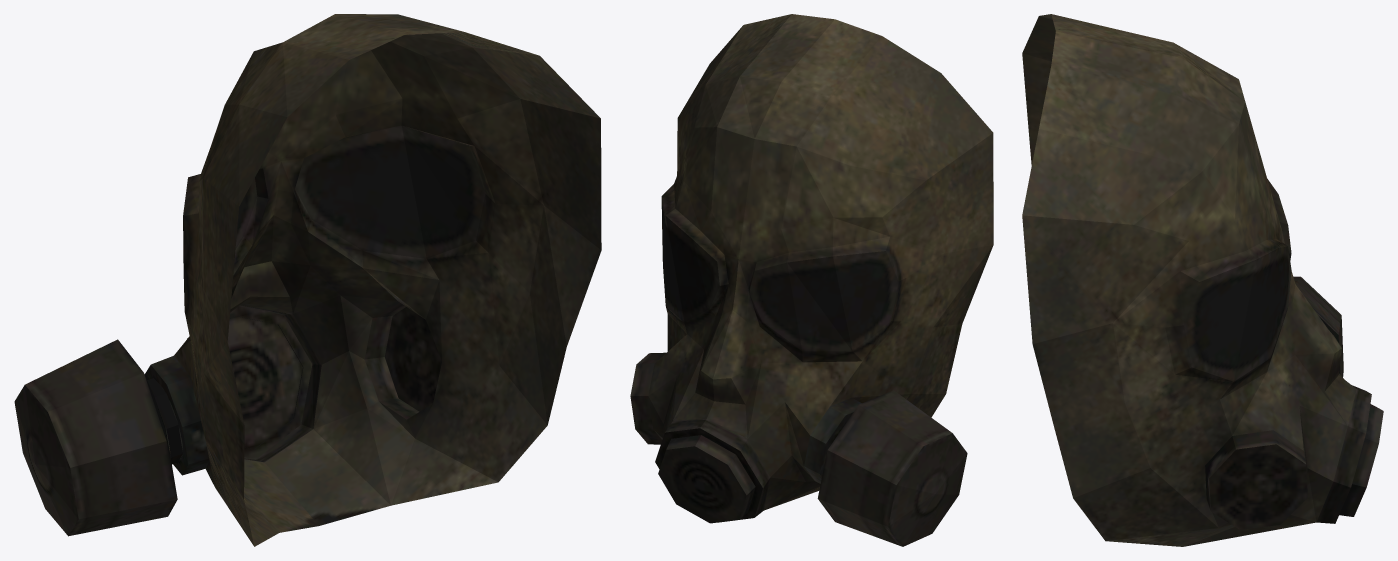
File: mask1.fbx
The picture shows the model from 3 angles, left to right: view 1: azimuth 30°, elevation 25°; view 2: azimuth 150°, elevation 25°; view 3: azimuth 270°, elevation 25°; orthographic projection. The views are drawn at different scales.
Visible parts, largest first — view 1: Object_1; view 2: Object_1; view 3: Object_1.
Part boxes in pixels (left/top/right/bottom): Object_1: left=14, top=14, right=601, bottom=546; Object_1: left=630, top=14, right=993, bottom=546; Object_1: left=1022, top=14, right=1383, bottom=546.
Size of the model in its own units: 19.81 by 23.93 by 15.45.
